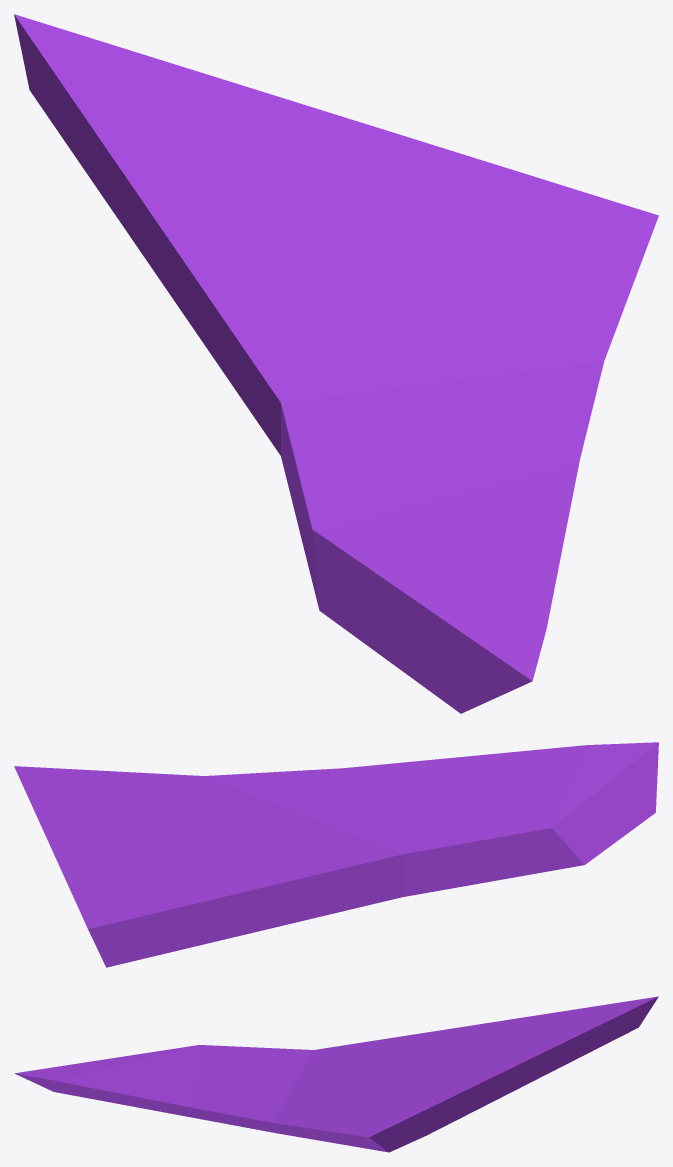
Rendered from Glass_100_3_11_chunks.fbx.
3 renders of one model, top to bottom at view 1: azimuth 30°, elevation 25°; view 2: azimuth 150°, elevation 25°; view 3: azimuth 270°, elevation 25°, orthographic. The views are drawn at different scales.
Parts seen in each view (by area): view 1: Glass_100_3_11_0, Glass_100_3_11_2, Glass_100_3_11_4, Glass_100_3_11_5, Glass_100_3_11_3, Glass_100_3_11_6, Glass_100_3_11_1; view 2: Glass_100_3_11_0, Glass_100_3_11_2, Glass_100_3_11_4, Glass_100_3_11_3, Glass_100_3_11_5, Glass_100_3_11_1, Glass_100_3_11_6; view 3: Glass_100_3_11_2, Glass_100_3_11_0, Glass_100_3_11_4, Glass_100_3_11_5, Glass_100_3_11_3, Glass_100_3_11_6.
Boxes of the visible parts, box(x1,y1,x2,y2) form: Glass_100_3_11_0: box(299, 392, 592, 713); Glass_100_3_11_2: box(265, 92, 658, 405); Glass_100_3_11_4: box(14, 14, 268, 382); Glass_100_3_11_5: box(181, 66, 387, 328); Glass_100_3_11_3: box(230, 319, 422, 458); Glass_100_3_11_6: box(214, 278, 331, 367); Glass_100_3_11_1: box(262, 428, 331, 582); Glass_100_3_11_0: box(267, 742, 658, 870); Glass_100_3_11_2: box(14, 766, 325, 865); Glass_100_3_11_4: box(69, 860, 345, 967); Glass_100_3_11_3: box(269, 819, 468, 911); Glass_100_3_11_5: box(59, 830, 283, 886); Glass_100_3_11_1: box(380, 834, 552, 902); Glass_100_3_11_6: box(268, 844, 373, 888); Glass_100_3_11_2: box(239, 1051, 545, 1152); Glass_100_3_11_0: box(14, 1045, 288, 1128); Glass_100_3_11_4: box(400, 996, 658, 1069); Glass_100_3_11_5: box(345, 1033, 583, 1075); Glass_100_3_11_3: box(263, 1045, 363, 1081); Glass_100_3_11_6: box(345, 1036, 407, 1062).
Size of the model in its own units: 427 by 191 by 866.
